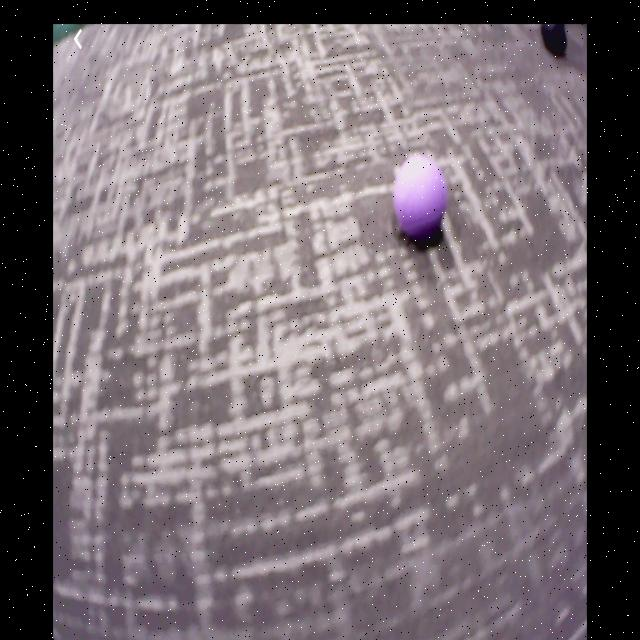ball: (395, 157, 449, 237)
